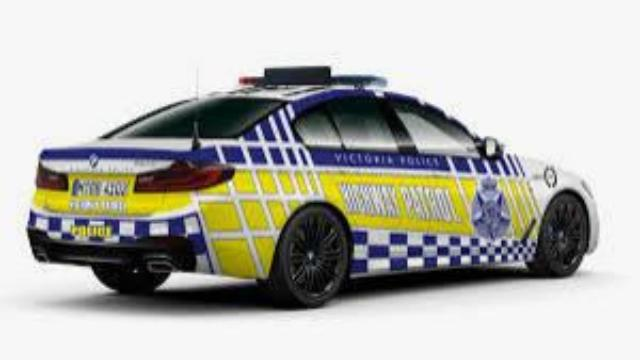police_car: (26, 64, 599, 309)
